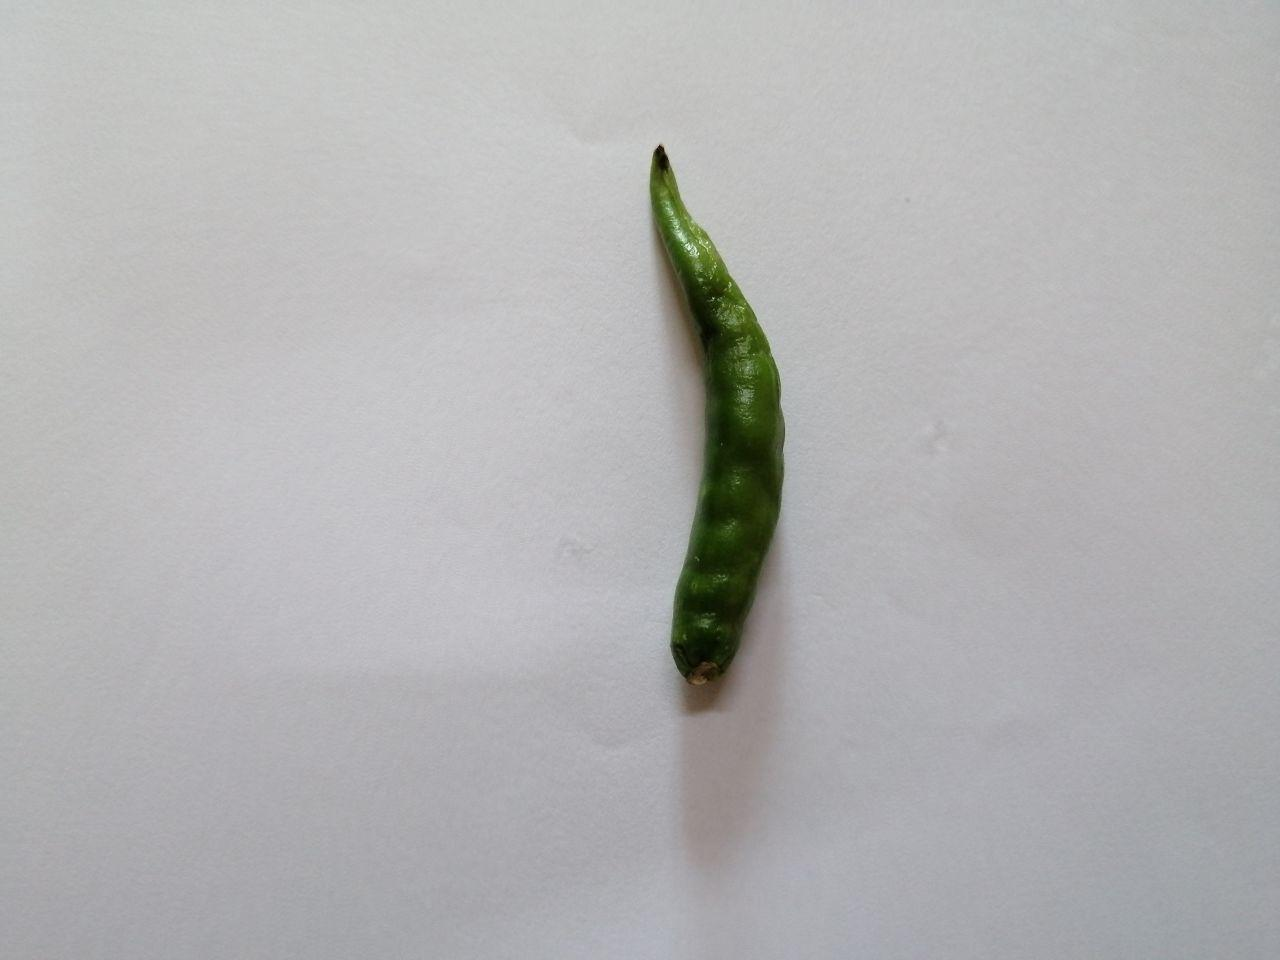lada hijau: (610, 125, 834, 708)
